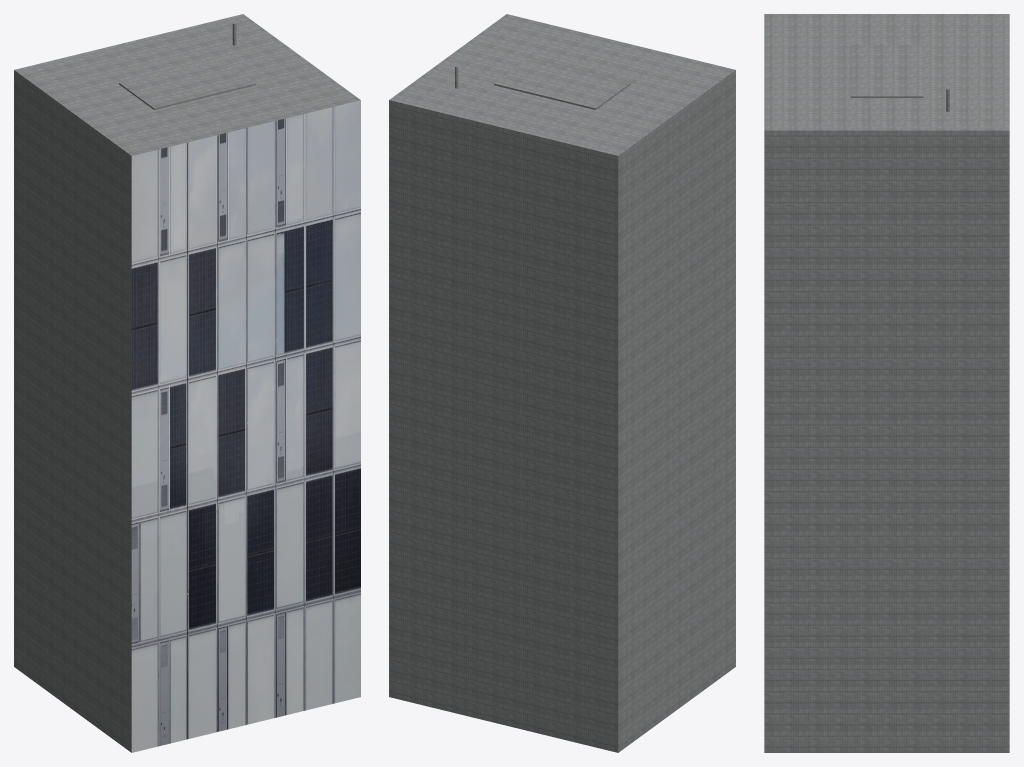
The model's file is halcyon-hq_lod0.gltf.
3 renders of one model, left to right at view 1: azimuth 30°, elevation 25°; view 2: azimuth 150°, elevation 25°; view 3: azimuth 270°, elevation 25°, orthographic. The views are drawn at different scales.
Parts seen in each view (by area): view 1: halcyon-hq_front, halcyon-hq_main, halcyon-hq__solar_array; view 2: halcyon-hq_main, halcyon-hq__solar_array; view 3: halcyon-hq_main, halcyon-hq__solar_array.
Boxes of the visible parts, box(x1,y1,x2,y2) form: halcyon-hq_front: box(131, 100, 360, 752); halcyon-hq_main: box(14, 14, 360, 752); halcyon-hq__solar_array: box(119, 58, 255, 109); halcyon-hq_main: box(389, 14, 735, 752); halcyon-hq__solar_array: box(494, 58, 630, 109); halcyon-hq_main: box(764, 14, 1009, 752); halcyon-hq__solar_array: box(850, 44, 923, 97).
Bounding box in the file's own units: 45 × 116 × 40.
